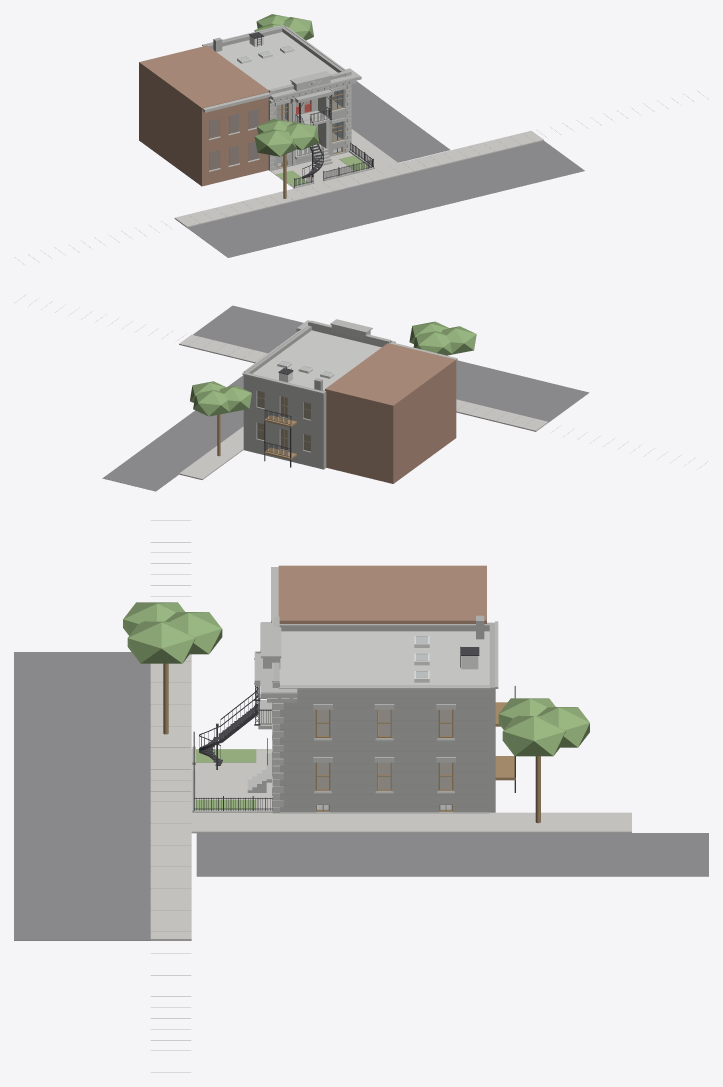
Rendered from clay-plateau-stair-triplex-clay-v003.glb.
The picture shows the model from 3 angles, top to bottom: view 1: azimuth 30°, elevation 25°; view 2: azimuth 150°, elevation 25°; view 3: azimuth 270°, elevation 25°; orthographic projection. The views are drawn at different scales.
Parts seen in each view (by area): view 1: CLAY_ASPHALT, CLAY_NEIGHBOUR, CLAY_CONCRETE, CLAY_STONE, CLAY_ROOF, CLAY_PLANTING, CLAY_WALL, CLAY_GLASS, CLAY_HARDWARE, CLAY_QUOIN, CLAY_BRICK, CLAY_LAWN (+1 smaller); view 2: CLAY_NEIGHBOUR, CLAY_ASPHALT, CLAY_BRICK, CLAY_ROOF, CLAY_CONCRETE, CLAY_PLANTING, CLAY_STONE, CLAY_GLASS, CLAY_TRIM, CLAY_HARDWARE, CLAY_TIMBER, CLAY_WALL (+1 smaller); view 3: CLAY_ASPHALT, CLAY_BRICK, CLAY_CONCRETE, CLAY_NEIGHBOUR, CLAY_ROOF, CLAY_PLANTING, CLAY_STONE, CLAY_JOINT, CLAY_HARDWARE, CLAY_GLASS, CLAY_QUOIN, CLAY_FLOOR (+4 smaller).
Boxes of the visible parts, x1,y1,x2,y2 form: CLAY_ASPHALT: (187,81,584,257); CLAY_NEIGHBOUR: (139,45,268,186); CLAY_CONCRETE: (174,129,543,227); CLAY_STONE: (202,25,374,188); CLAY_ROOF: (212,32,337,89); CLAY_PLANTING: (254,14,319,156); CLAY_WALL: (268,70,350,170); CLAY_GLASS: (209,46,342,169); CLAY_HARDWARE: (249,32,373,186); CLAY_QUOIN: (269,71,351,171); CLAY_BRICK: (204,26,343,138); CLAY_LAWN: (276,155,370,186); CLAY_NEIGHBOUR: (325,343,456,483); CLAY_ASPHALT: (102,305,589,491); CLAY_BRICK: (243,326,326,469); CLAY_ROOF: (252,330,381,390); CLAY_CONCRETE: (179,334,548,479); CLAY_PLANTING: (190,321,476,416); CLAY_STONE: (242,319,457,394); CLAY_GLASS: (257,360,332,451); CLAY_TRIM: (257,391,310,451); CLAY_HARDWARE: (264,367,293,467); CLAY_TIMBER: (217,414,296,459); CLAY_WALL: (308,321,390,347); CLAY_ASPHALT: (14,652,708,940); CLAY_BRICK: (279,615,495,812); CLAY_CONCRETE: (150,654,631,940); CLAY_NEIGHBOUR: (278,565,486,623); CLAY_ROOF: (279,631,489,685); CLAY_PLANTING: (123,602,589,756); CLAY_STONE: (192,567,498,812); CLAY_JOINT: (151,520,488,1072); CLAY_HARDWARE: (193,646,515,810); CLAY_GLASS: (317,636,451,809); CLAY_QUOIN: (272,616,455,813); CLAY_FLOOR: (317,709,451,788).
Bounding box in the file's own units: 76.52 × 9.06 × 40.7.
